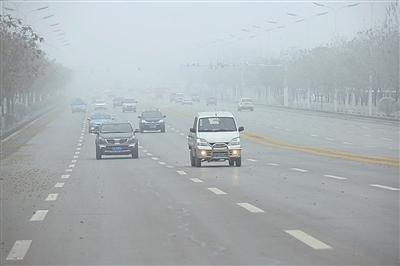car: (187, 112, 245, 167), (94, 122, 140, 159), (138, 111, 167, 134), (88, 113, 114, 134), (121, 96, 138, 112), (70, 98, 88, 112), (237, 98, 254, 112), (93, 100, 108, 110), (113, 97, 125, 107), (206, 96, 217, 106), (181, 96, 193, 105), (175, 92, 185, 102)
